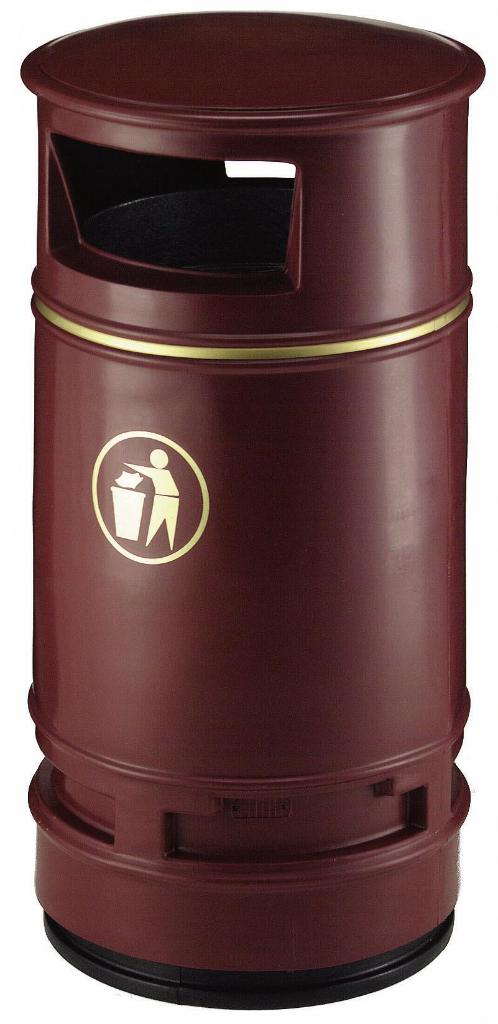dustbin: (11, 0, 483, 1002)
